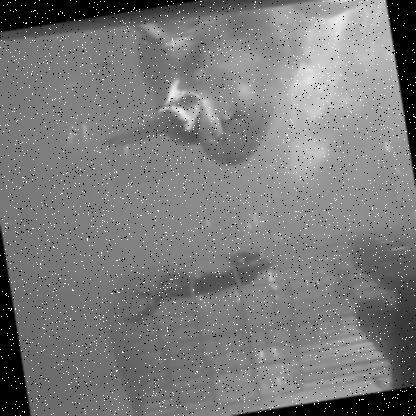white-shark: (87, 0, 385, 186)
